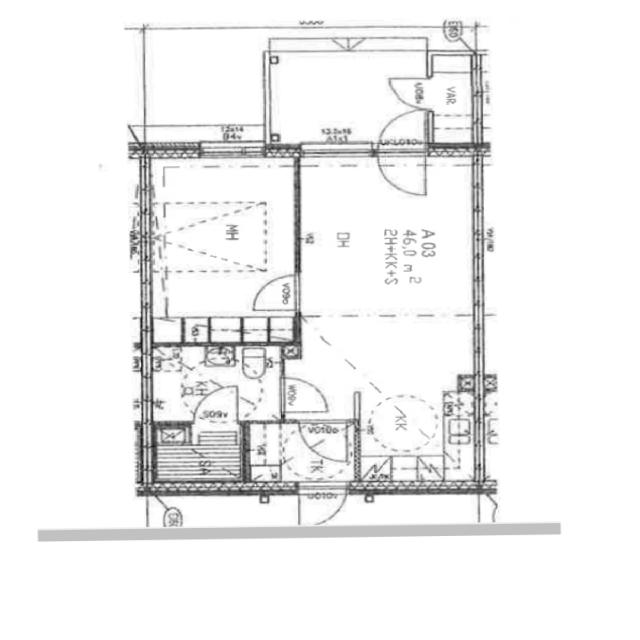door: (163, 373, 267, 428), (296, 478, 350, 526), (376, 150, 429, 198), (298, 420, 353, 464), (249, 270, 302, 314), (190, 386, 241, 431), (378, 108, 428, 152), (279, 375, 330, 417), (385, 75, 431, 112)
window: (297, 142, 376, 163), (196, 141, 266, 163), (466, 319, 491, 378), (135, 250, 157, 314)
zone: (297, 160, 483, 322), (148, 157, 298, 345), (351, 317, 463, 484), (264, 51, 426, 149), (139, 27, 269, 145), (146, 343, 286, 425), (144, 426, 247, 494), (426, 56, 476, 141)
